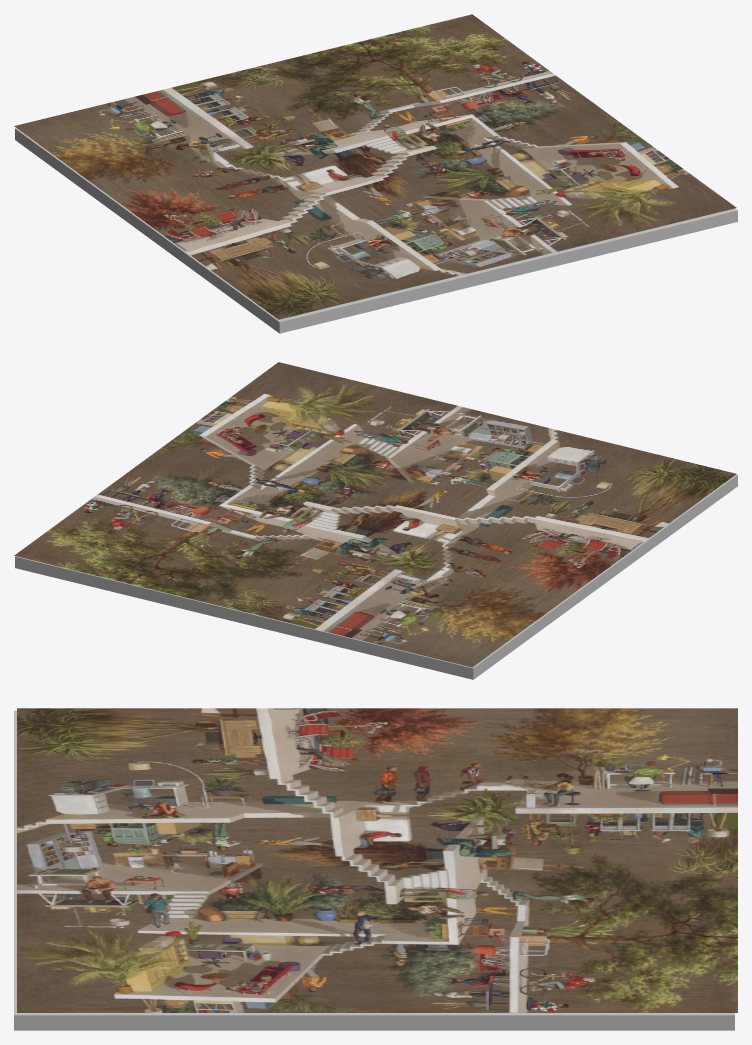
File: painting_new.gltf
The picture shows the model from 3 angles, top to bottom: view 1: azimuth 30°, elevation 25°; view 2: azimuth 150°, elevation 25°; view 3: azimuth 270°, elevation 25°; orthographic projection. The views are drawn at different scales.
Parts seen in each view (by area): view 1: Painting, Box; view 2: Painting, Box; view 3: Painting, Box.
Boxes of the visible parts, x1,y1,x2,y2 form: Painting: (14,14,736,319); Box: (15,128,737,333); Painting: (14,362,736,667); Box: (15,474,737,679); Painting: (17,708,737,1012); Box: (14,710,734,1030).
Size of the model in its own units: 0.168 by 0.0046 by 0.1686.
2 materials, 1 textured.
